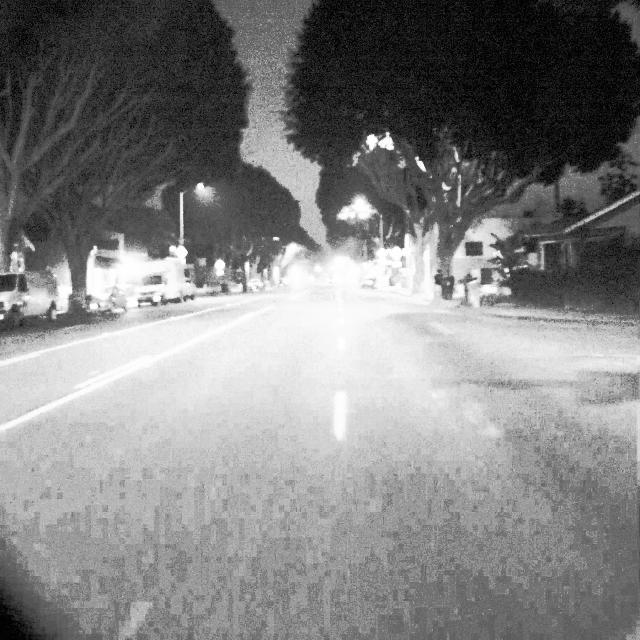Truck: (136, 258, 186, 306)
